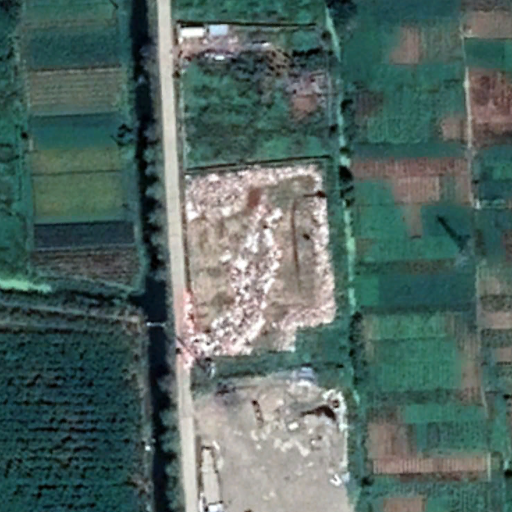msw: (185, 165, 339, 364)
